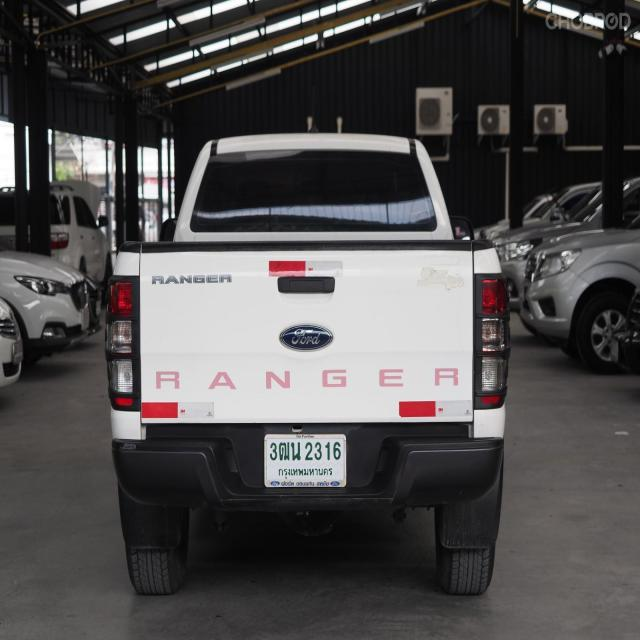license_plate: (263, 428, 348, 492)
